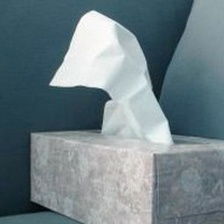book: (23, 122, 223, 224)
tissue: (43, 5, 179, 148)
